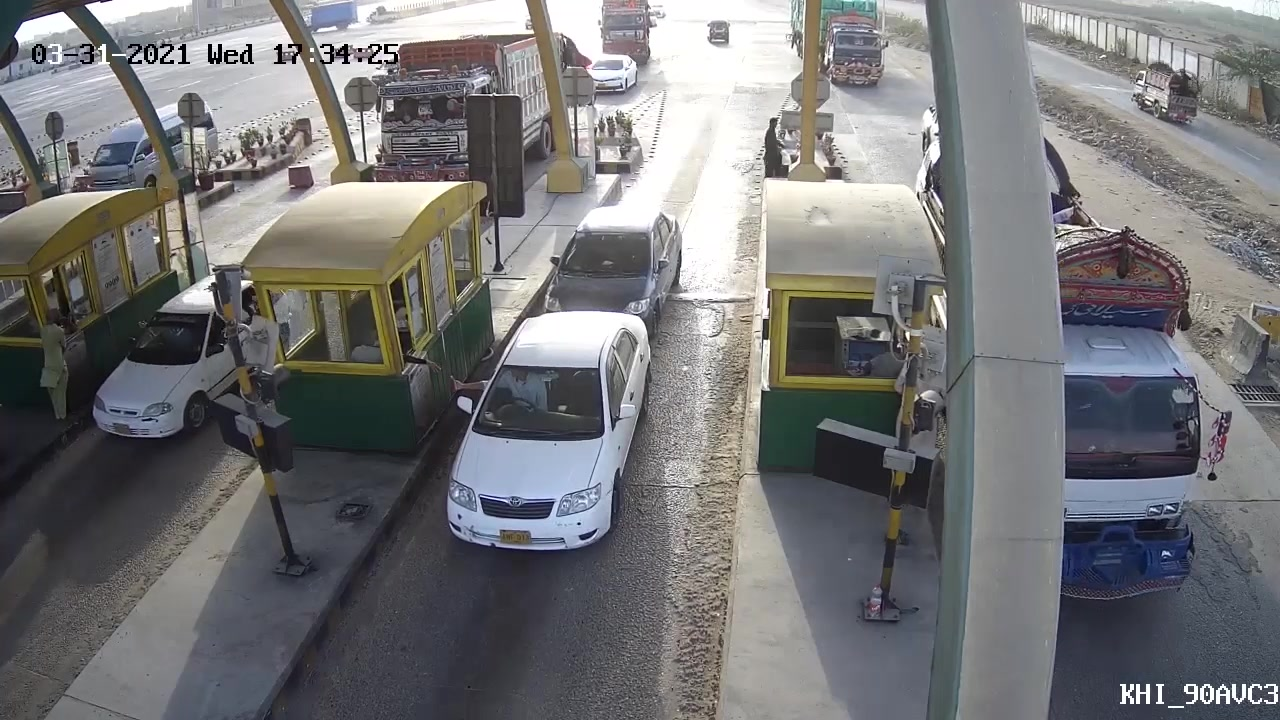F1: (437, 311, 646, 582)
